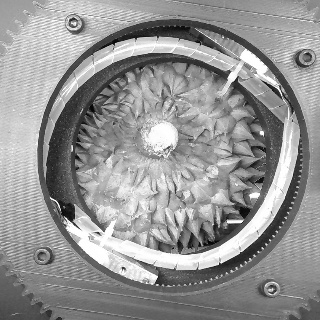base: (135, 111, 177, 153)
end: (147, 122, 179, 153)
